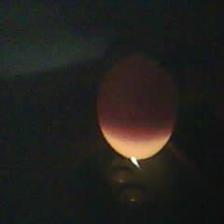fertile: (94, 50, 180, 163)
